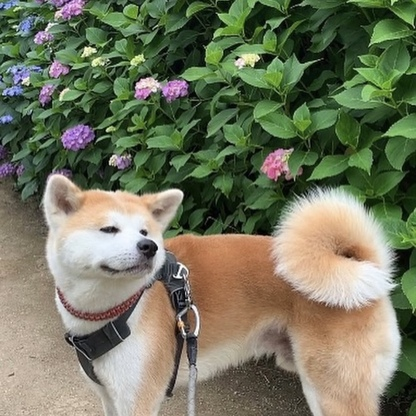akita: (32, 154, 410, 416)
